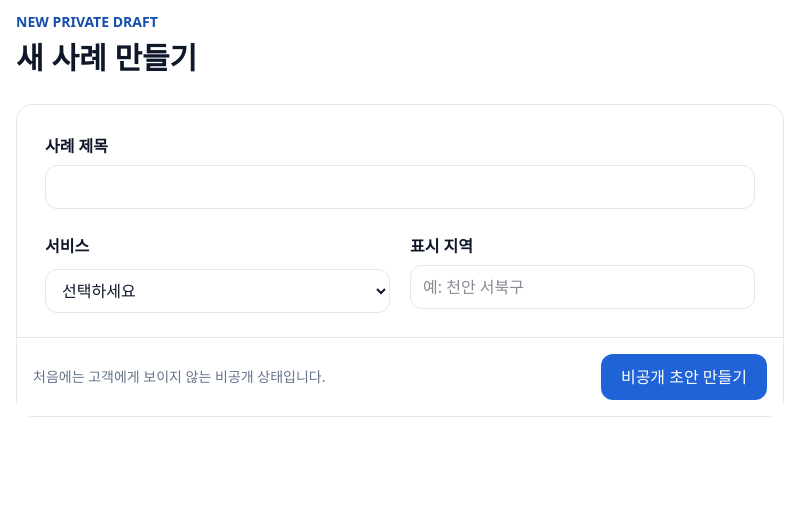
Scenario: admin draft flows › validates required fields and creates a private draft
The image size is (801, 508).
Click the button "비공개 초안 만들기" at (684, 377), box x1=601 y1=354 x2=767 y2=400
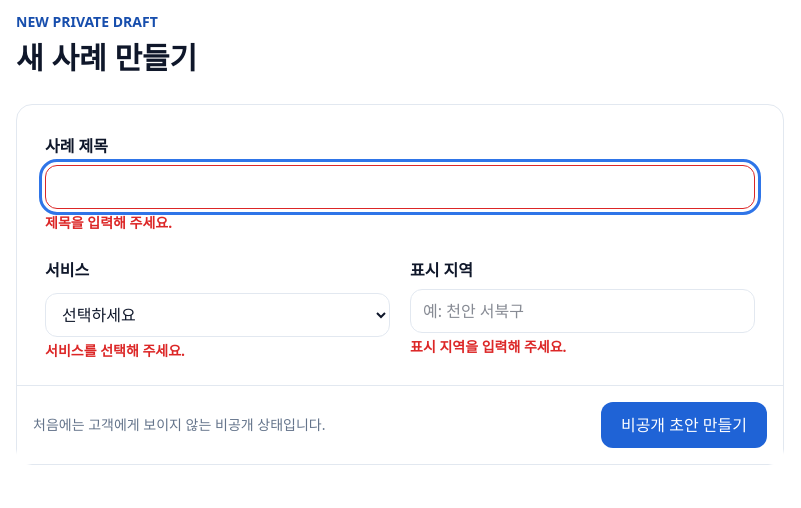
Result: the text "제목을 입력해 주세요." is shown at x1=45 y1=213 x2=172 y2=232
Type "새 에어컨 작업 사례" into the field labelled "사례 제목" at (400, 187), box x1=45 y1=165 x2=755 y2=209
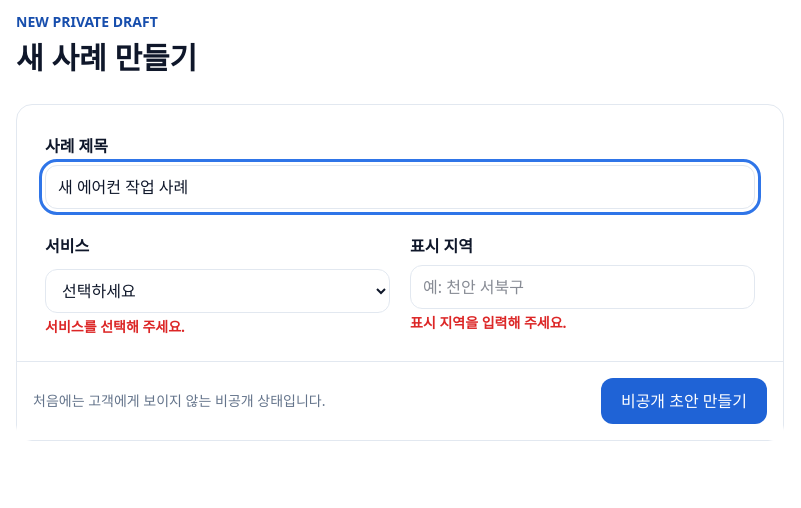
Select "에어컨 청소" in the dropdown labelled "서비스" at (218, 291), box x1=45 y1=269 x2=390 y2=313
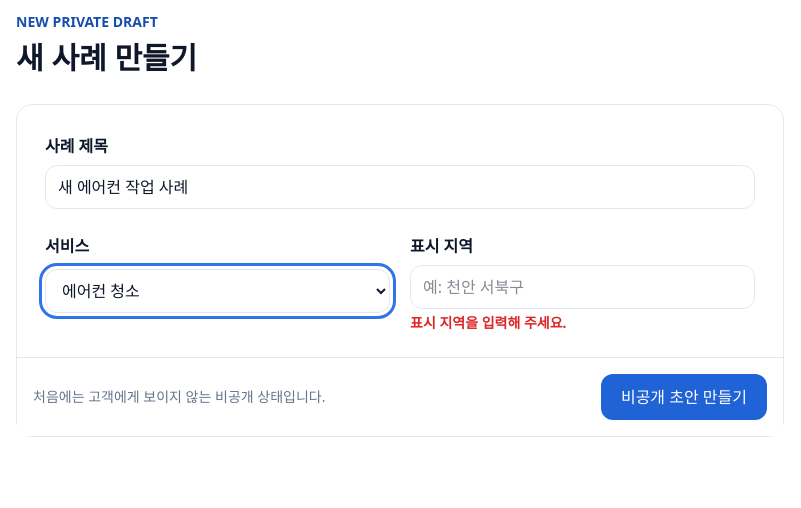
Type "아산 배방읍" into the field labelled "표시 지역" at (582, 287), box x1=410 y1=265 x2=755 y2=309
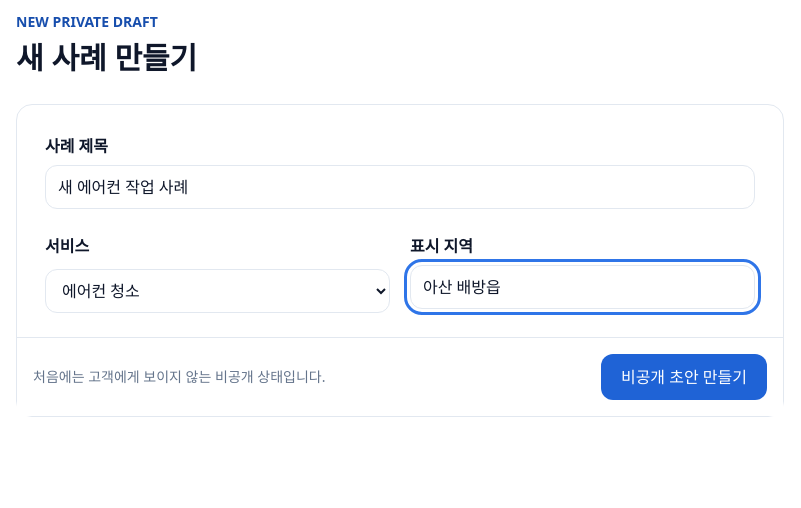
Click the button "비공개 초안 만들기" at (684, 377), box x1=601 y1=354 x2=767 y2=400
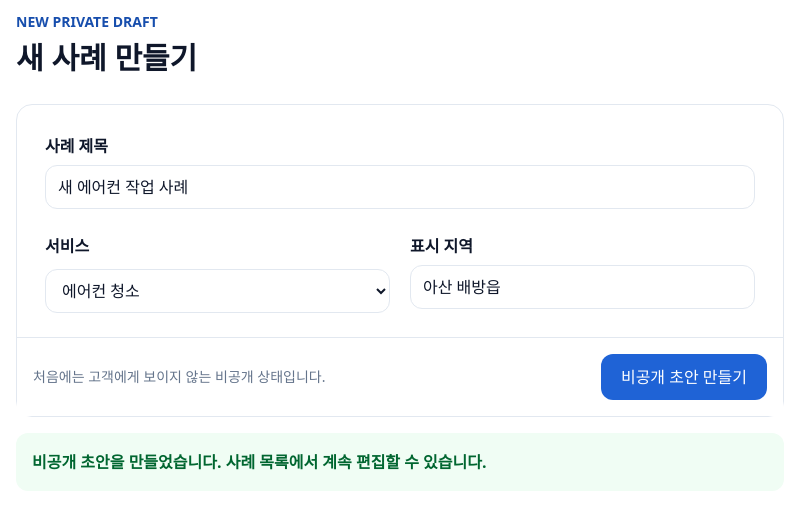
Result: the message shows "비공개 초안을 만들었습니다" at x1=32 y1=451 x2=487 y2=473
